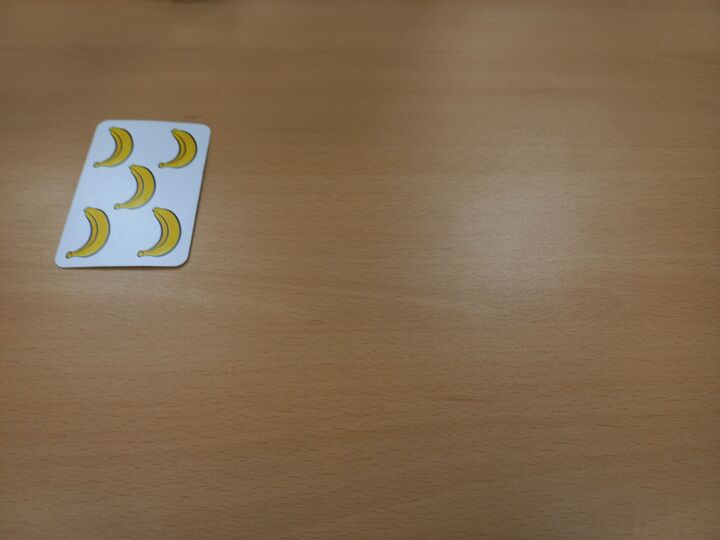banana5: (54, 116, 212, 273)
